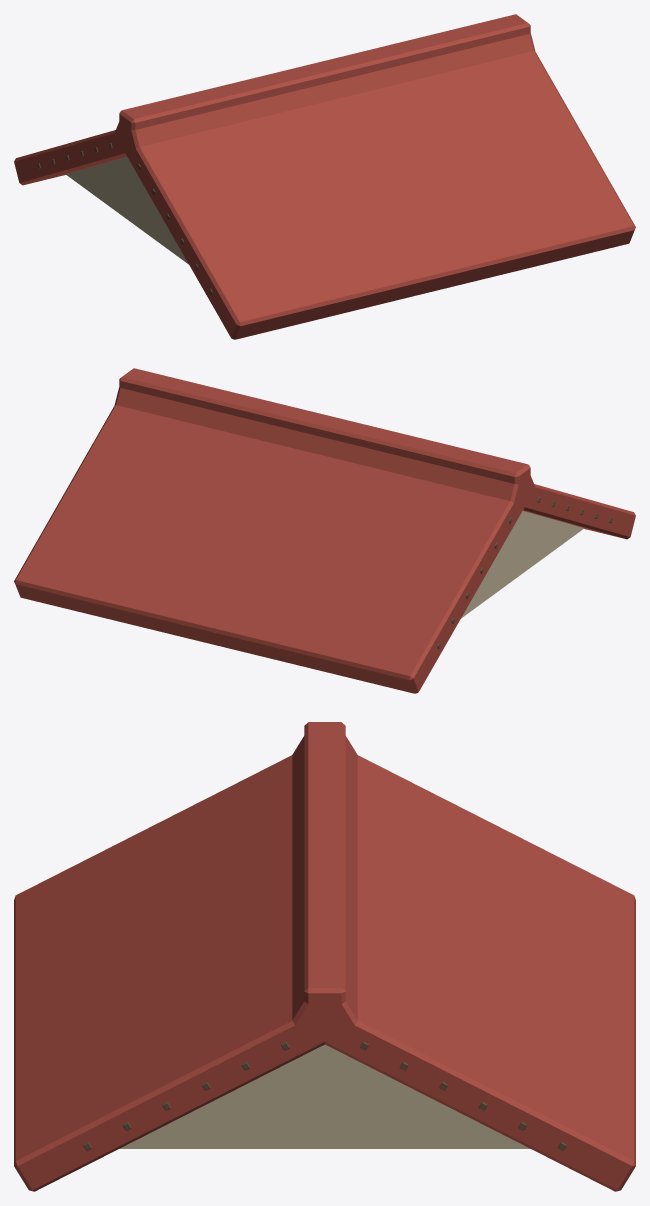
Rendered from architecture-roof-ridge.lod0.glb.
3 renders of one model, top to bottom at view 1: azimuth 30°, elevation 25°; view 2: azimuth 150°, elevation 25°; view 3: azimuth 270°, elevation 25°, orthographic. The views are drawn at different scales.
Parts seen in each view (by area): view 1: architecture-roof-ridge__body; view 2: architecture-roof-ridge__body; view 3: architecture-roof-ridge__body.
Boxes of the visible parts, <box> form: architecture-roof-ridge__body: <box>14,14,635,339</box>; architecture-roof-ridge__body: <box>14,368,635,693</box>; architecture-roof-ridge__body: <box>14,722,635,1191</box>.
Bounding box in the file's own units: 2.31 × 0.8125 × 2.25.
